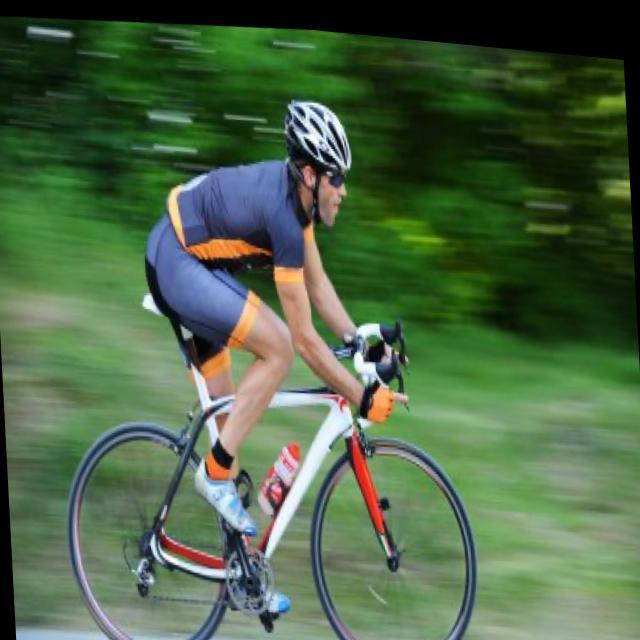Helmet: (264, 89, 366, 232)
